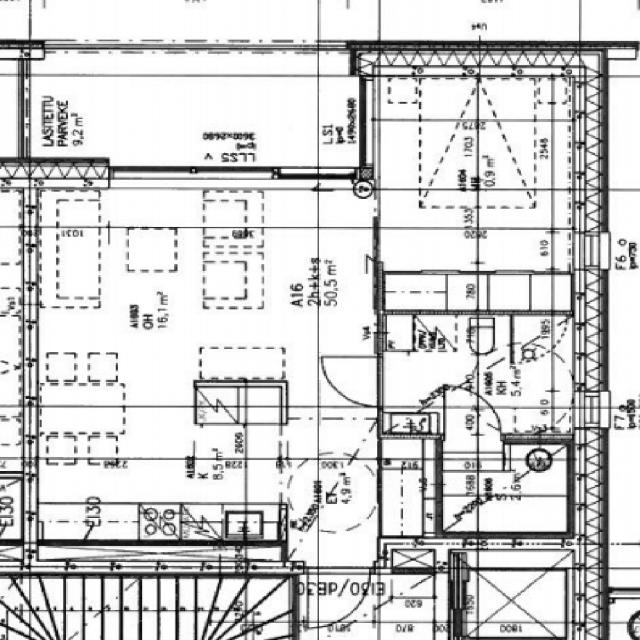door: (308, 568, 371, 630), (445, 386, 502, 441), (322, 357, 384, 407)
